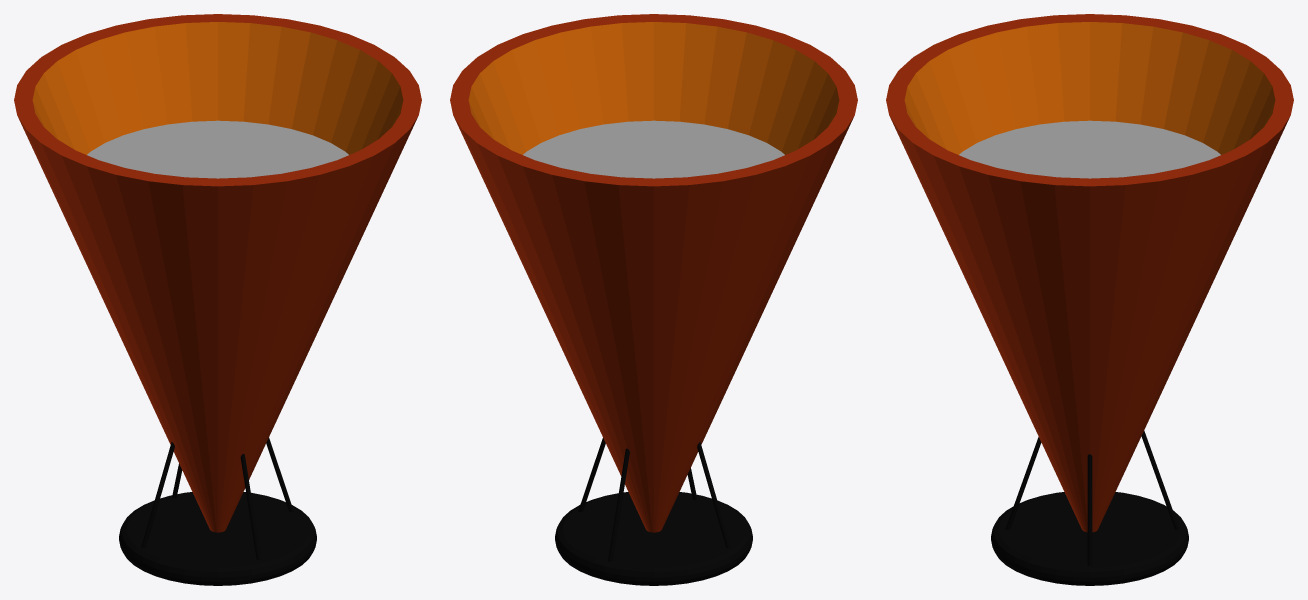
File: рож3.fbx
3 renders of one model, left to right at view 1: azimuth 30°, elevation 25°; view 2: azimuth 150°, elevation 25°; view 3: azimuth 270°, elevation 25°, orthographic.
Visible parts, largest first — view 1: Конус, Конус_1, Цилиндр_1_2, Цилиндр_2_2, Цилиндр_3, Цилиндр_1; view 2: Конус, Конус_1, Цилиндр_1_2, Цилиндр_2_2, Цилиндр, Цилиндр_3; view 3: Конус, Конус_1, Цилиндр_1_2, Цилиндр_2_2, Цилиндр_2, Цилиндр.
Part boxes in pixels (<box>): Конус: <box>14,14,421,532</box>; Конус_1: <box>32,22,403,154</box>; Цилиндр_1_2: <box>119,492,316,585</box>; Цилиндр_2_2: <box>87,120,348,178</box>; Цилиндр_3: <box>141,442,174,548</box>; Цилиндр_1: <box>240,454,261,560</box>; Конус: <box>450,14,857,532</box>; Конус_1: <box>468,22,839,154</box>; Цилиндр_1_2: <box>555,492,752,585</box>; Цилиндр_2_2: <box>523,120,784,178</box>; Цилиндр: <box>608,448,629,561</box>; Цилиндр_3: <box>697,442,730,548</box>; Конус: <box>886,14,1293,532</box>; Конус_1: <box>904,22,1275,154</box>; Цилиндр_1_2: <box>991,492,1188,585</box>; Цилиндр_2_2: <box>959,120,1220,178</box>; Цилиндр_2: <box>1087,454,1092,565</box>; Цилиндр: <box>1141,430,1179,529</box>.
Bounding box in the file's own units: 17.18 × 20.77 × 17.18.
